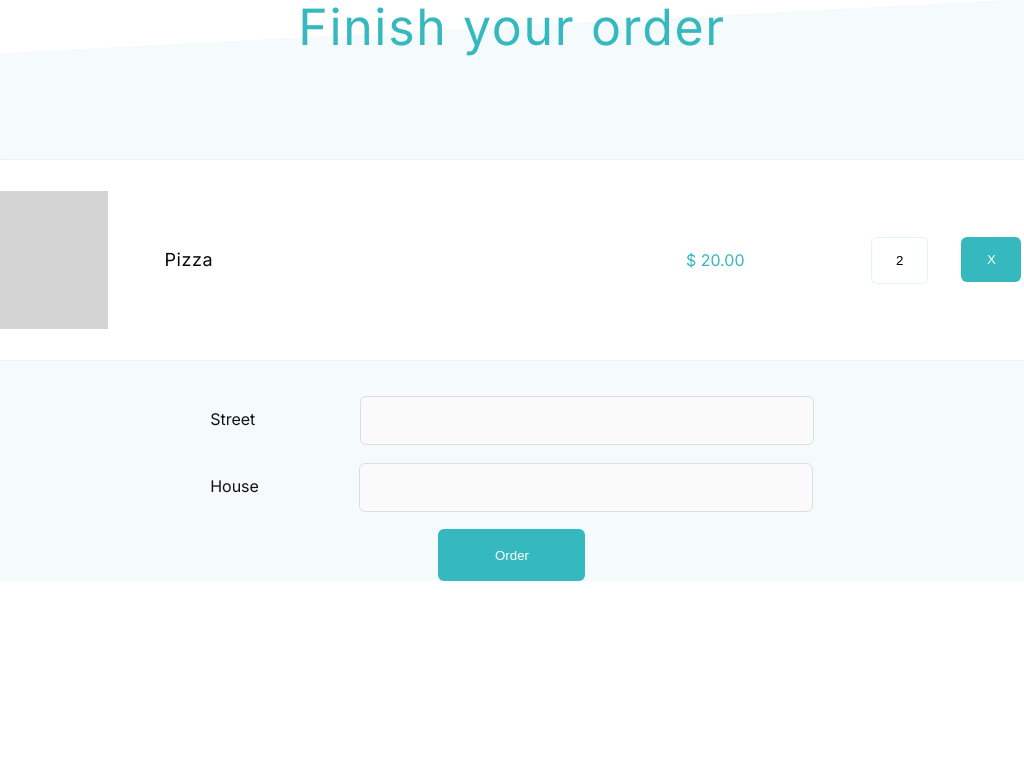
Test: OrderPage: unit tests › Should process placeOrder and clearBasket when input is correct
The width and height of the screenshot is (1024, 768).
Step 1. Type "Main" into the field labelled "Street" → (587, 421), box top-left (360, 396), bottom-right (814, 445)
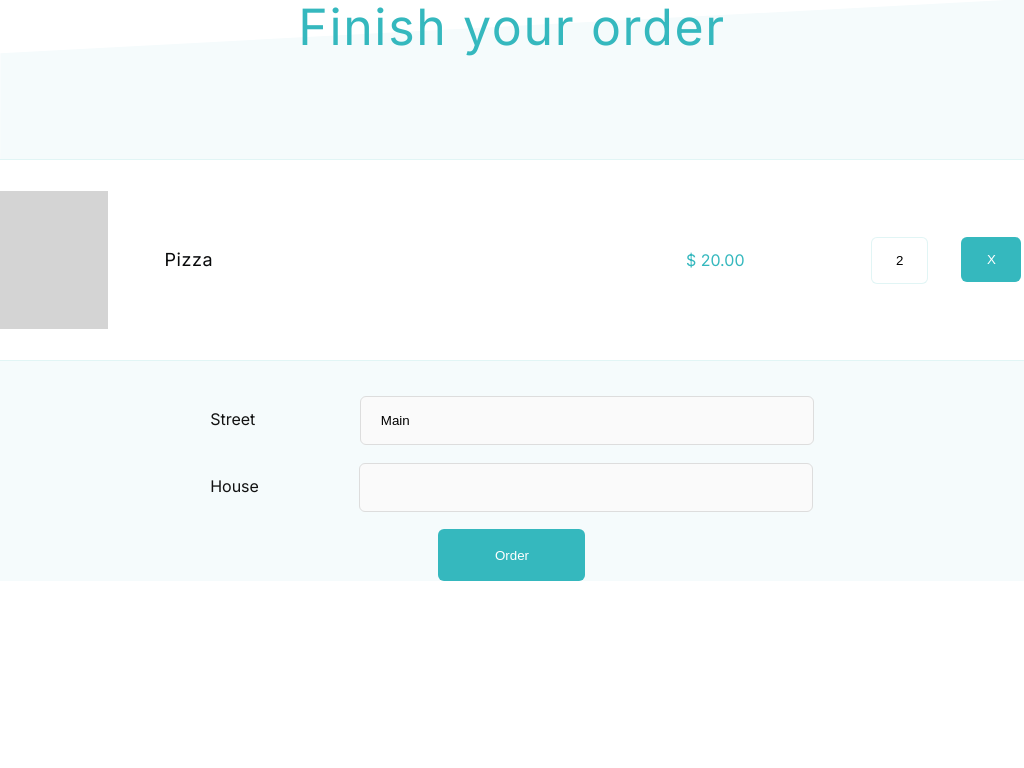
Step 2. Type "1A" into the field labelled "House" → (586, 487), box top-left (359, 463), bottom-right (813, 512)
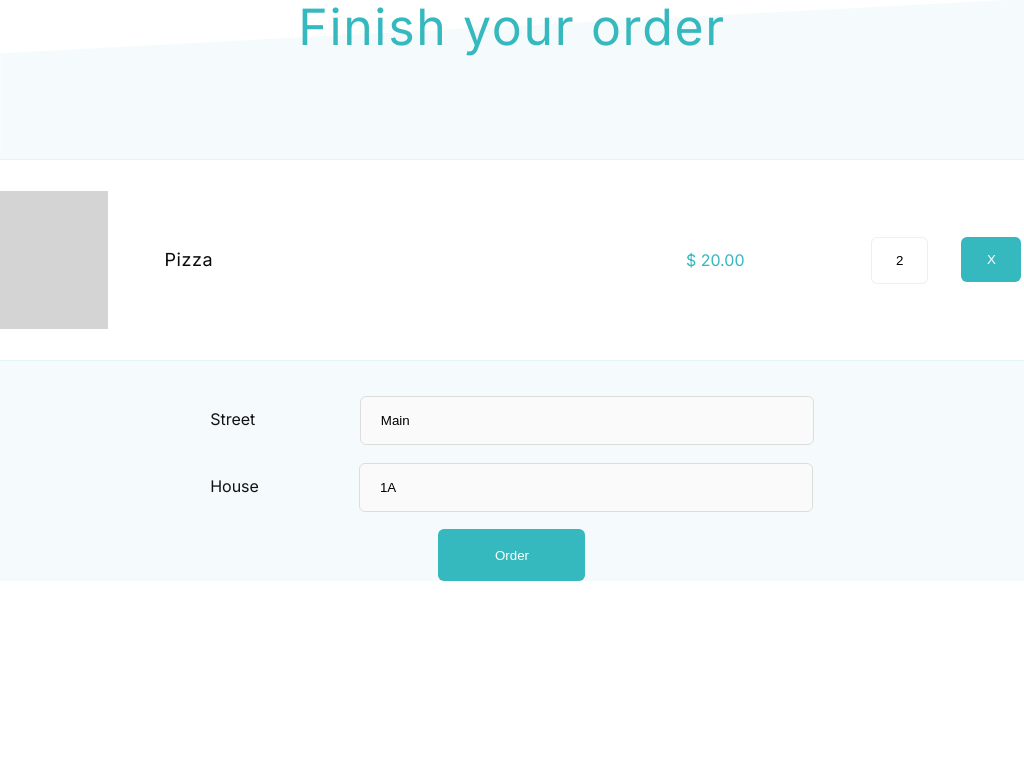
Step 3. Click the button "Order" → click(512, 555), box top-left (438, 529), bottom-right (586, 581)
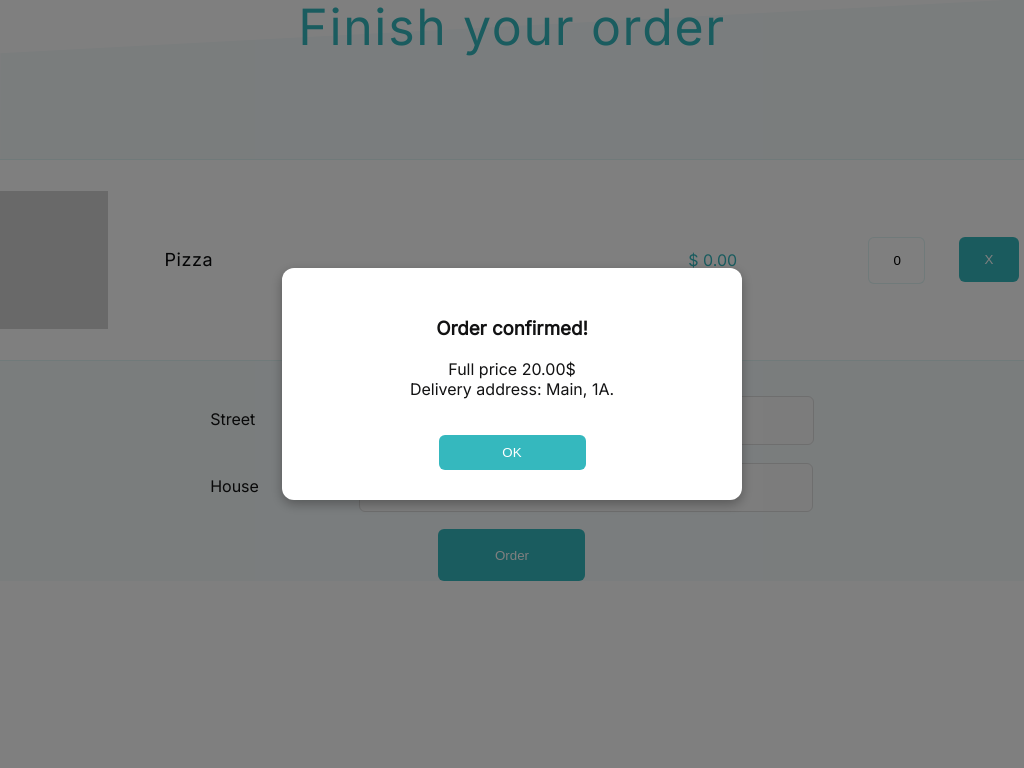
Expected: the heading "Order confirmed!" is shown, top-left (436, 317), bottom-right (588, 340)
Expected: the text "Full price 20.00$ Delivery address: Main, 1A." is shown, top-left (410, 359), bottom-right (614, 399)
